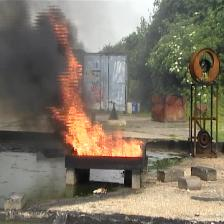fire: (65, 56, 85, 152), (85, 129, 141, 158)
smoke: (2, 38, 55, 106)
